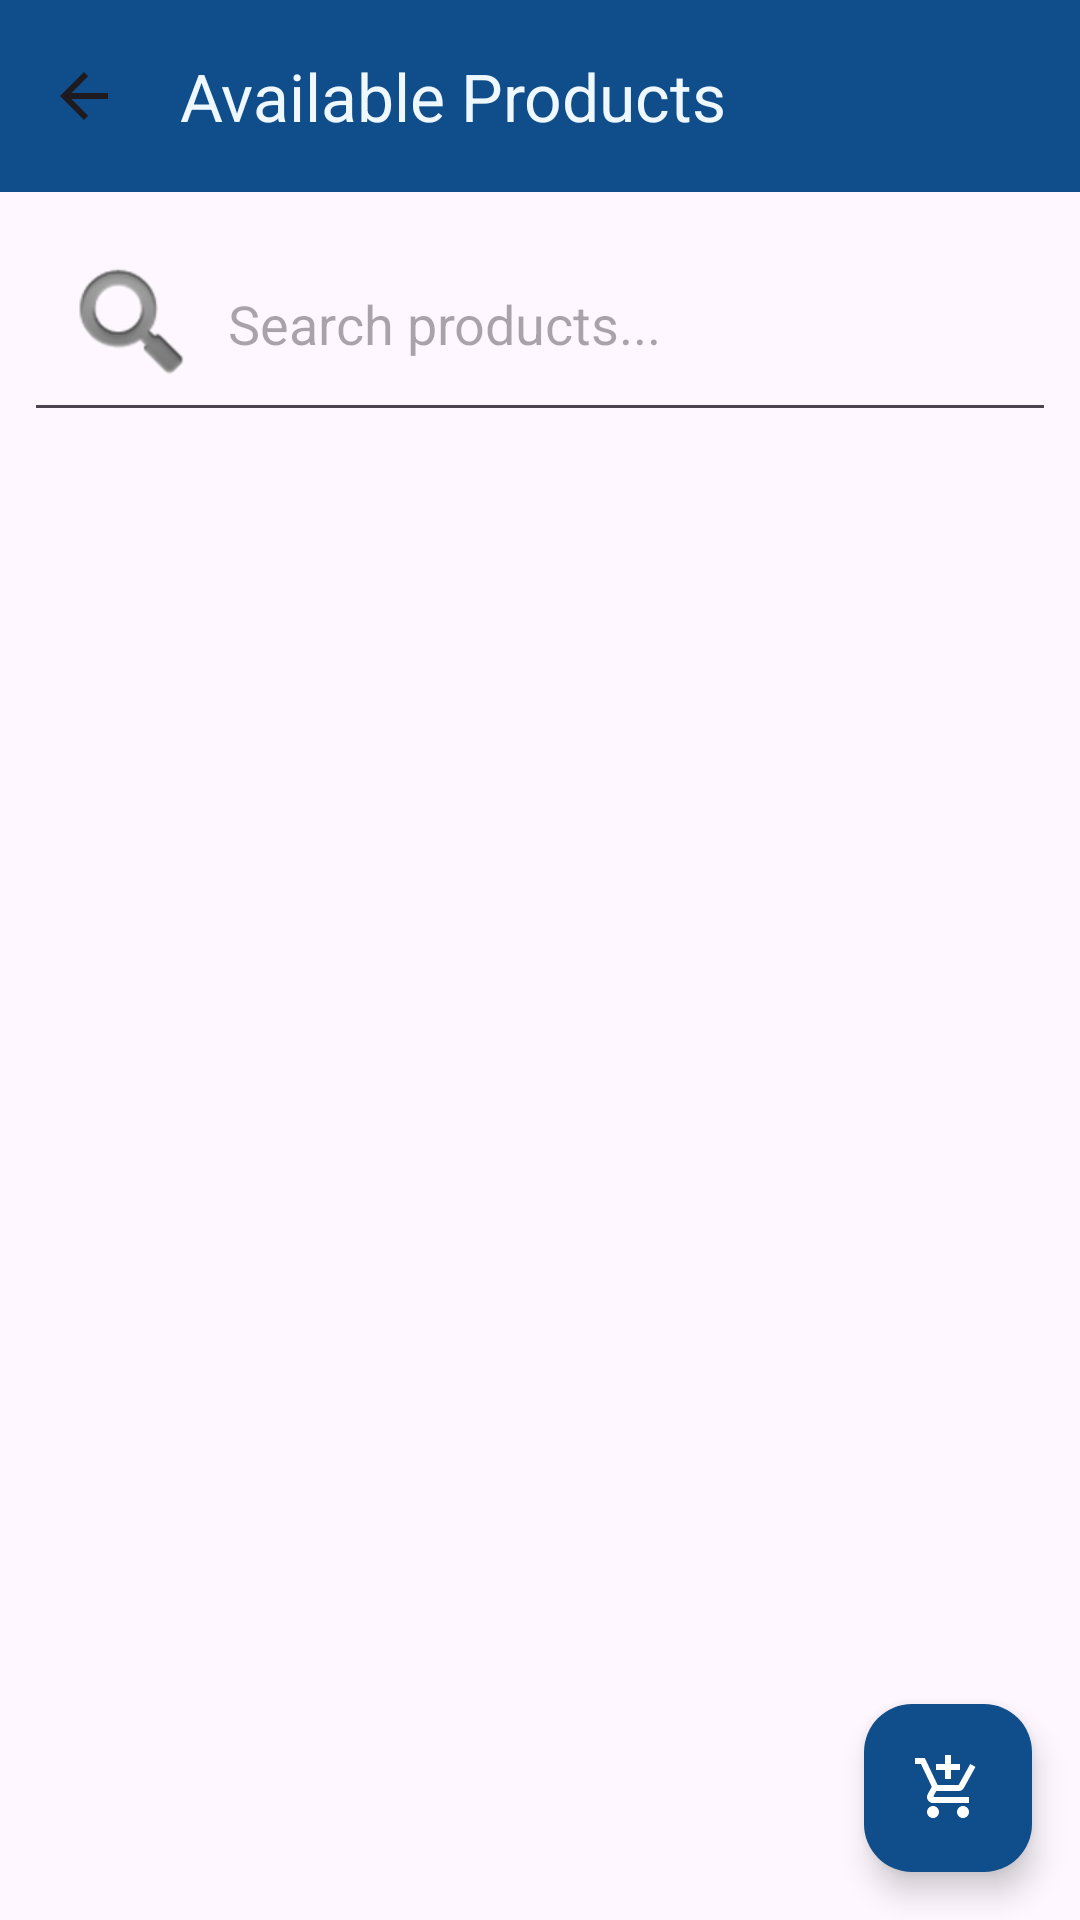

Screen size 1080x1920. Icon name, then its box in pixels as box(x1, y1, x2, y2):
Open Cart: box(864, 1704, 1032, 1872)
